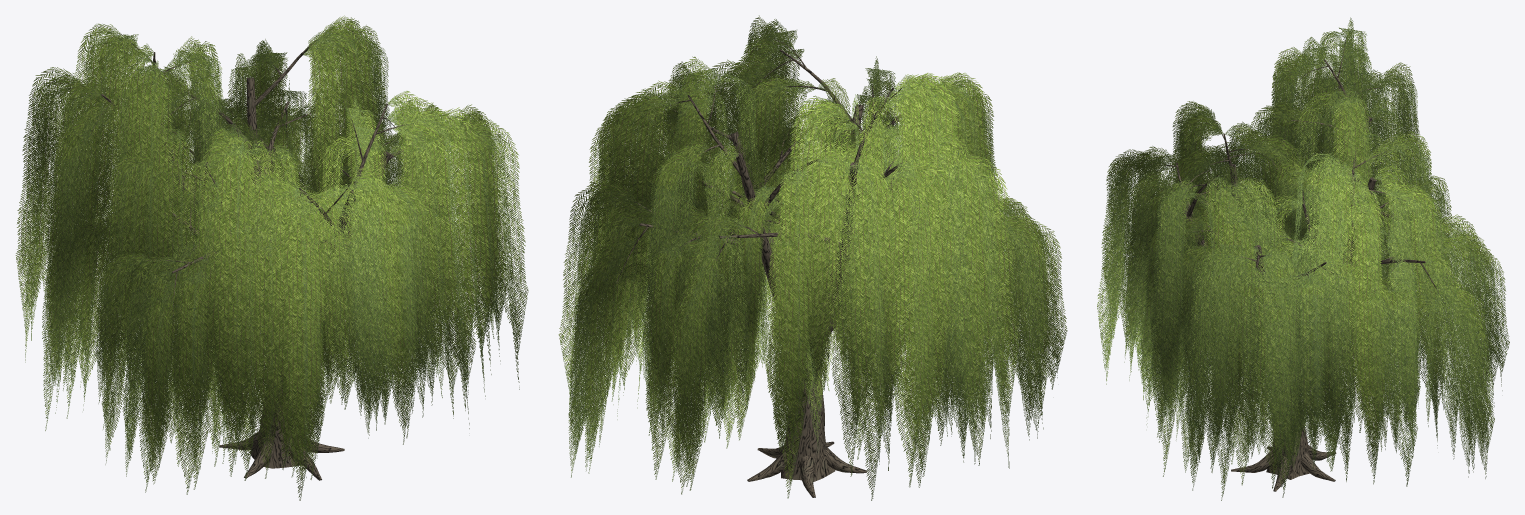
The model's file is weeping-willow.glb.
3 renders of one model, left to right at view 1: azimuth 30°, elevation 25°; view 2: azimuth 150°, elevation 25°; view 3: azimuth 270°, elevation 25°, orthographic. The views are drawn at different scales.
Parts seen in each view (by area): view 1: Leaves, Trunk; view 2: Leaves, Trunk; view 3: Leaves, Trunk.
Boxes of the visible parts, x1,y1,x2,y2 form: Leaves: (15, 15, 528, 500); Trunk: (91, 34, 440, 480); Leaves: (558, 15, 1067, 500); Trunk: (616, 39, 981, 497); Leaves: (1097, 17, 1509, 500); Trunk: (1159, 38, 1463, 491).
Bounding box in the file's own units: 10.09 × 9.71 × 9.35.
Materials: 2 (2 with a texture image).
